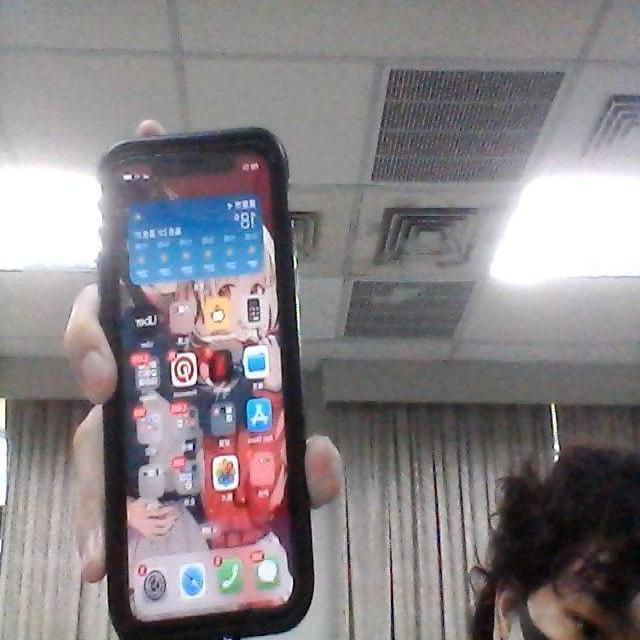mobile: (91, 105, 321, 640)
